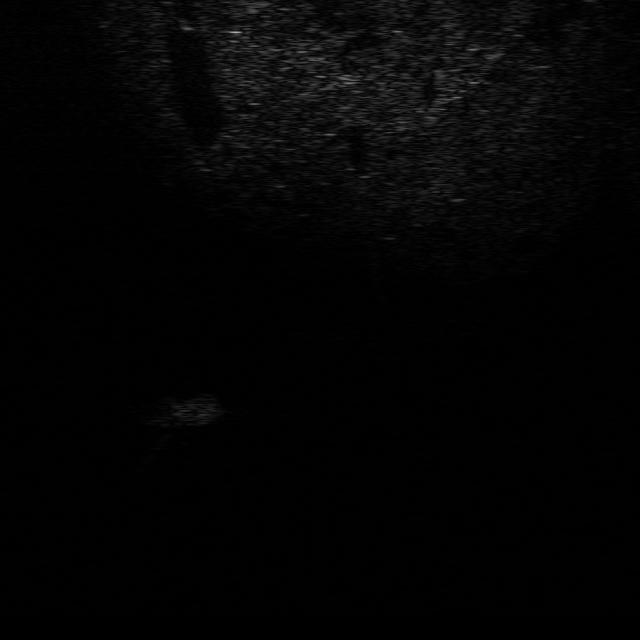cube: (146, 392, 224, 424)
